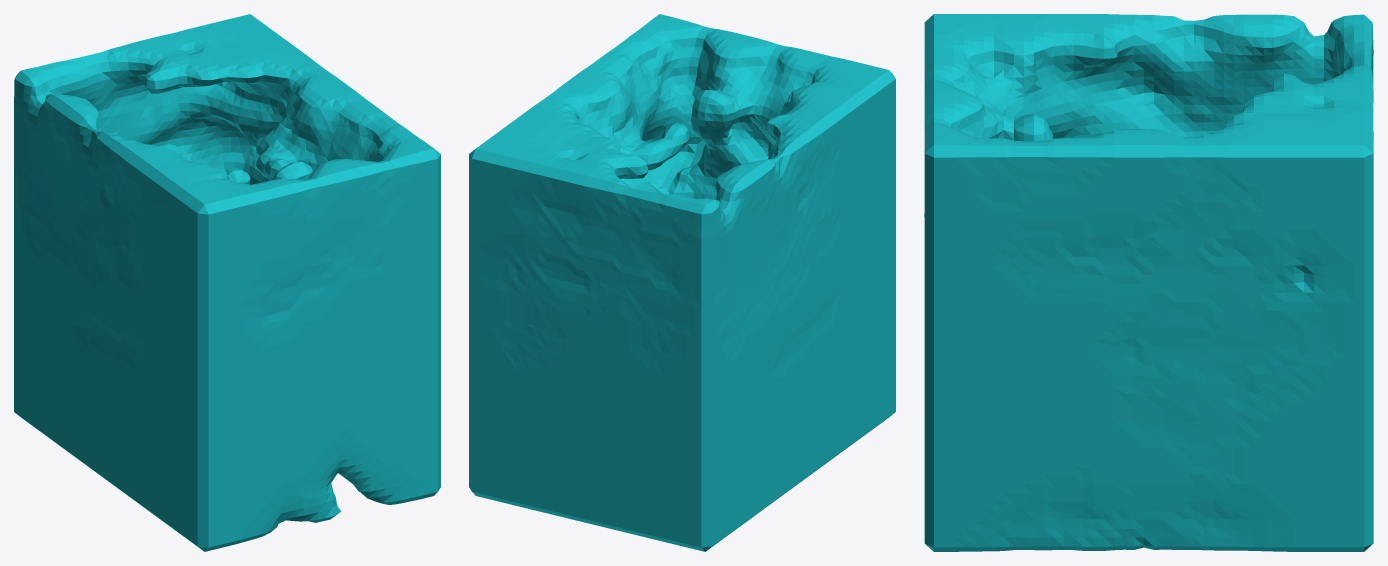
3 renders of one model, left to right at view 1: azimuth 30°, elevation 25°; view 2: azimuth 150°, elevation 25°; view 3: azimuth 270°, elevation 25°, orthographic. The views are drawn at different scales.
Visible parts, largest first — view 1: Liquid_Domain; view 2: Liquid_Domain; view 3: Liquid_Domain.
Part boxes in pixels (<box>): Liquid_Domain: <box>14,14,440,551</box>; Liquid_Domain: <box>469,14,895,551</box>; Liquid_Domain: <box>924,14,1373,551</box>.
Bounding box in the file's own units: 79.09 × 108 × 108.
